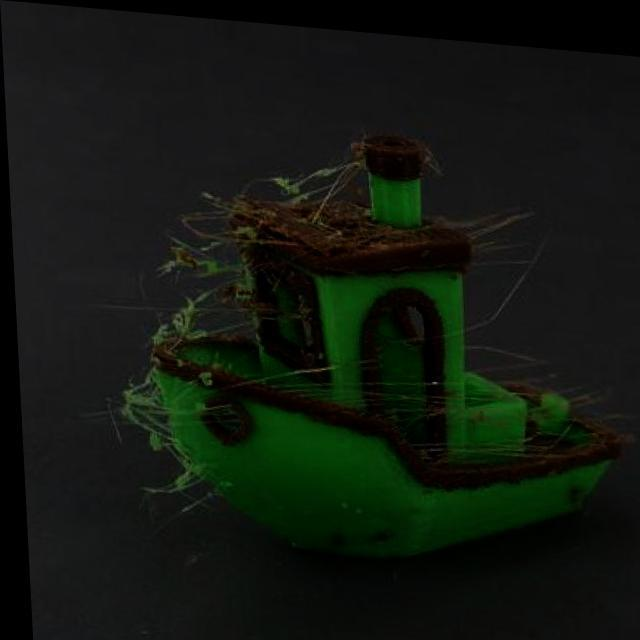stringing: (279, 150, 353, 210), (163, 231, 239, 286), (415, 428, 526, 462), (116, 375, 160, 438), (370, 378, 430, 424), (148, 299, 202, 343), (275, 357, 330, 397), (451, 202, 522, 231), (144, 467, 189, 500)
